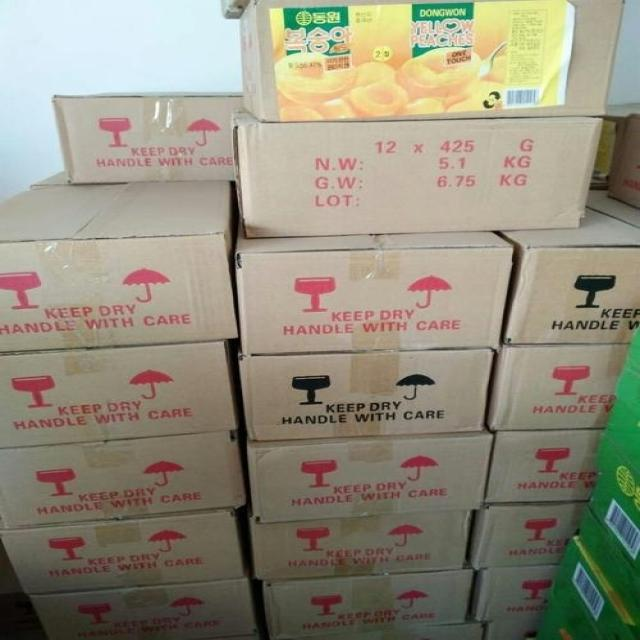box: (239, 1, 624, 122), (235, 109, 601, 234), (0, 181, 239, 355), (232, 218, 516, 357), (0, 341, 239, 450), (0, 429, 249, 533), (235, 349, 498, 439), (244, 429, 495, 522), (498, 190, 639, 344), (0, 510, 246, 594), (574, 331, 639, 624), (52, 91, 246, 183), (247, 509, 473, 580), (262, 569, 471, 639), (29, 577, 259, 639), (488, 344, 628, 430), (537, 532, 639, 639), (487, 430, 601, 504), (464, 503, 584, 568), (469, 565, 557, 623), (591, 102, 639, 189), (275, 623, 486, 639), (607, 112, 639, 208), (484, 617, 540, 637), (31, 169, 71, 187)
